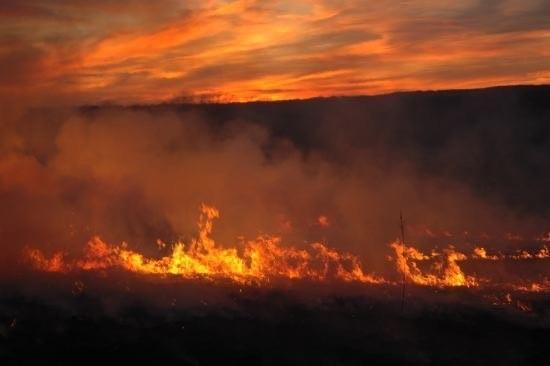fire: (30, 219, 550, 306)
smoke: (39, 84, 452, 211)
